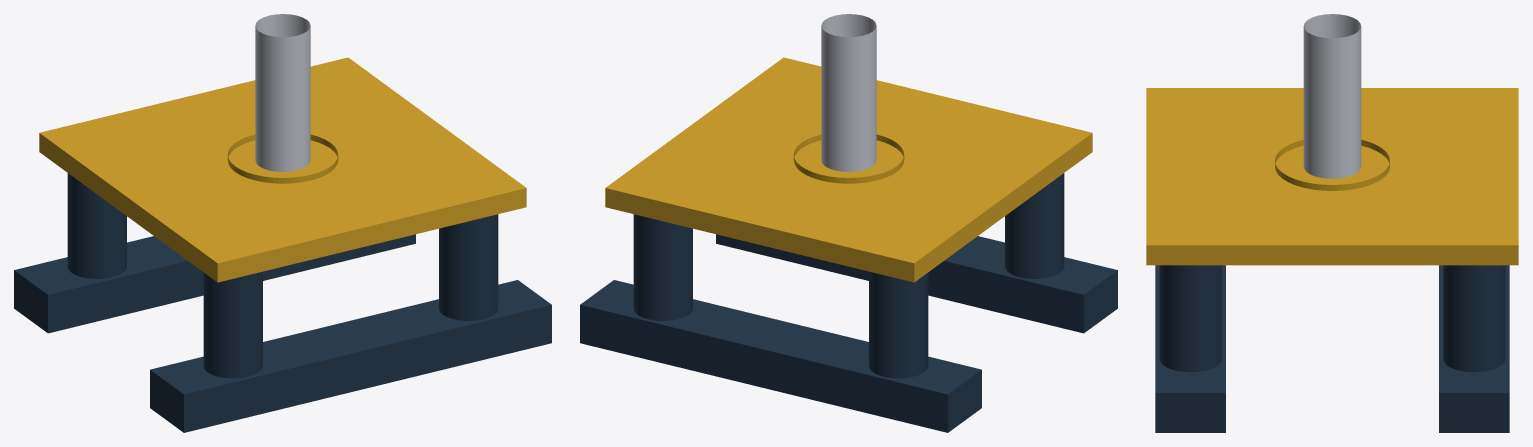
File: Earth_Port_Platform.obj
3 renders of one model, left to right at view 1: azimuth 30°, elevation 25°; view 2: azimuth 150°, elevation 25°; view 3: azimuth 270°, elevation 25°, orthographic. The views are drawn at different scales.
Visible parts, largest first — view 1: Deck_Industrial_Gold, Marine_Epoxy_Steel, Marine_White, Safety_Gold; view 2: Deck_Industrial_Gold, Marine_Epoxy_Steel, Marine_White, Safety_Gold; view 3: Deck_Industrial_Gold, Marine_Epoxy_Steel, Marine_White, Safety_Gold.
Boxes of the visible parts, x1,y1,x2,y2 form: Deck_Industrial_Gold: (39,57,526,282); Marine_Epoxy_Steel: (14,173,551,432); Marine_White: (255,14,310,171); Safety_Gold: (227,134,338,183); Deck_Industrial_Gold: (605,57,1092,282); Marine_Epoxy_Steel: (580,173,1117,432); Marine_White: (821,14,876,171); Safety_Gold: (793,134,904,183); Deck_Industrial_Gold: (1146,88,1518,265); Marine_Epoxy_Steel: (1155,265,1509,432); Marine_White: (1303,14,1361,178); Safety_Gold: (1275,139,1389,190).
Bounding box in the file's own units: 100 × 78 × 84.
